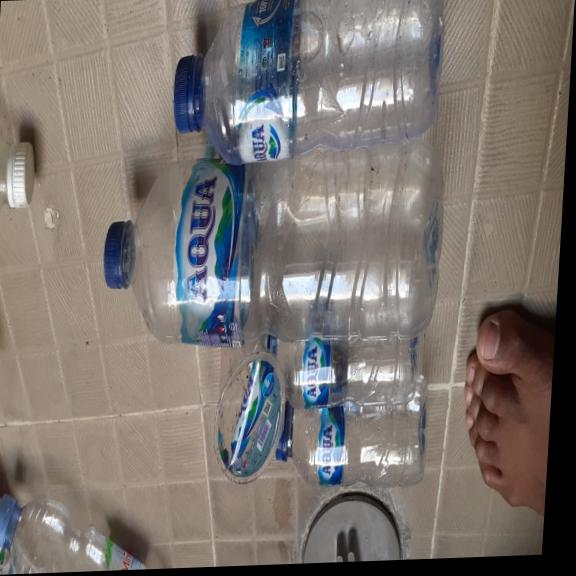Plastik: (98, 137, 445, 349), (168, 0, 447, 179), (0, 473, 165, 575), (272, 390, 430, 494), (281, 333, 420, 414), (0, 125, 37, 224)
